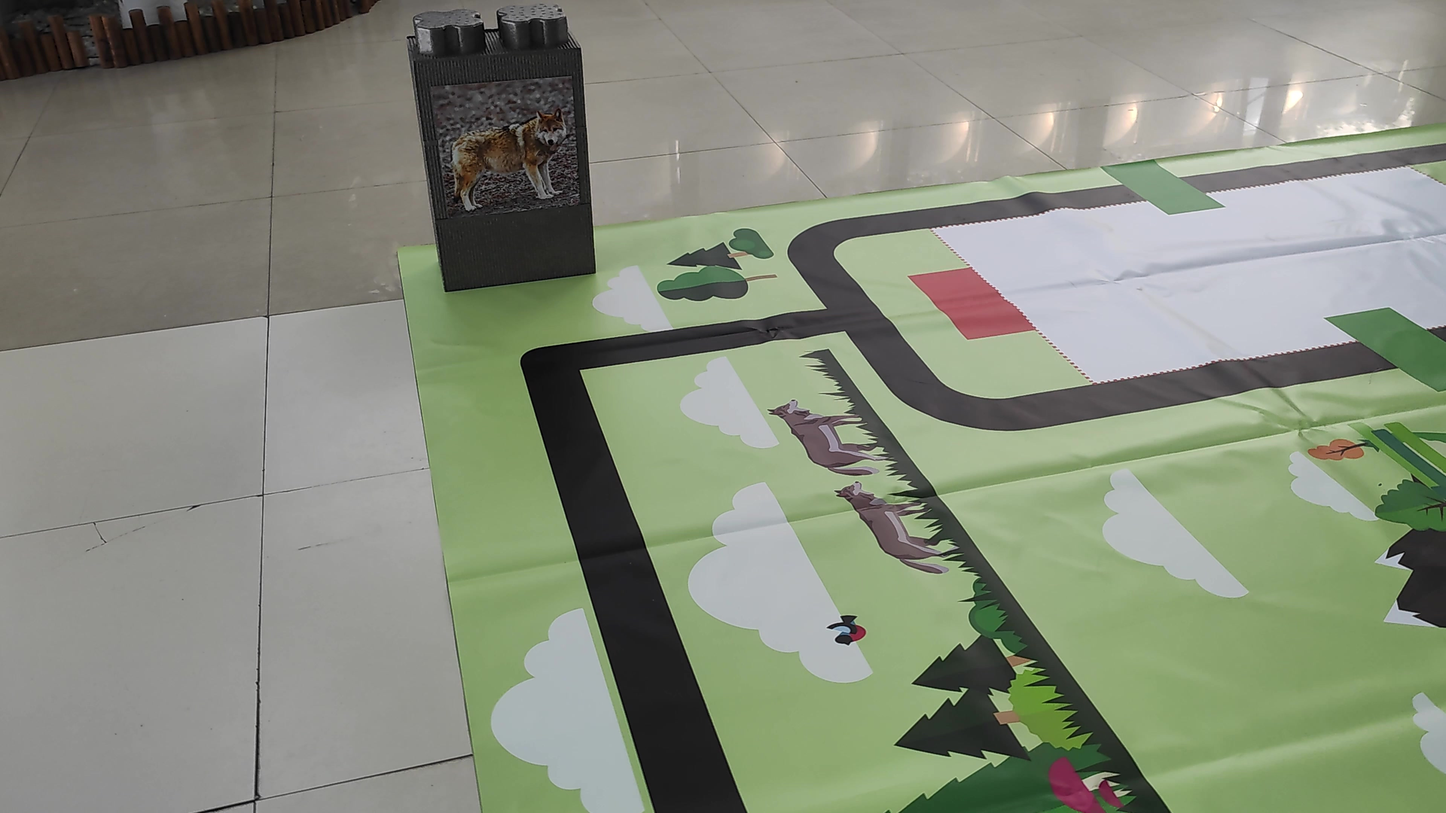wolf: (438, 96, 567, 211)
